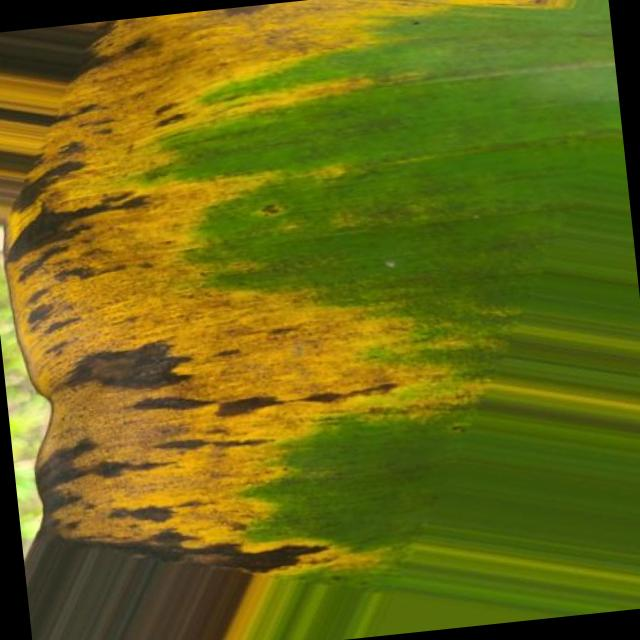Banana_Black_Sigatoka: (0, 12, 368, 603)
